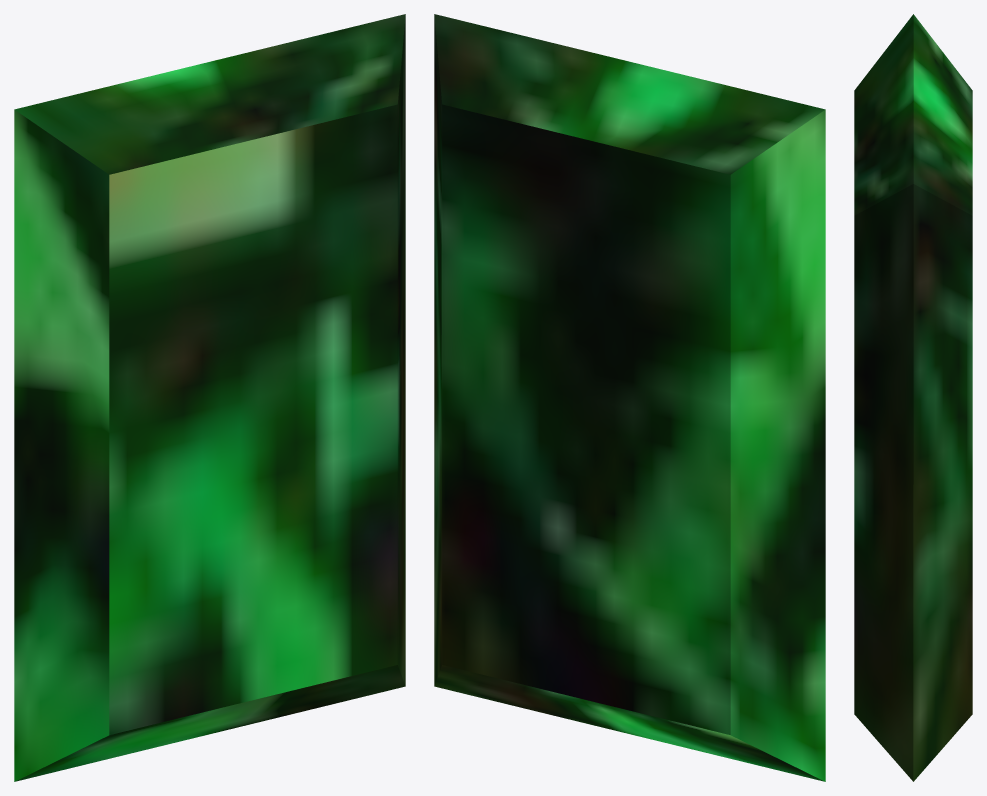
Rendered from emerald.fbx.
The picture shows the model from 3 angles, left to right: view 1: azimuth 30°, elevation 25°; view 2: azimuth 150°, elevation 25°; view 3: azimuth 270°, elevation 25°; orthographic projection. The views are drawn at different scales.
Parts seen in each view (by area): view 1: Cube; view 2: Cube; view 3: Cube.
Part boxes in pixels (bbox=[...]): Cube: bbox=[14, 14, 405, 781]; Cube: bbox=[434, 14, 825, 781]; Cube: bbox=[854, 14, 972, 781].
Bounding box in the file's own units: 190 × 312 × 56.
